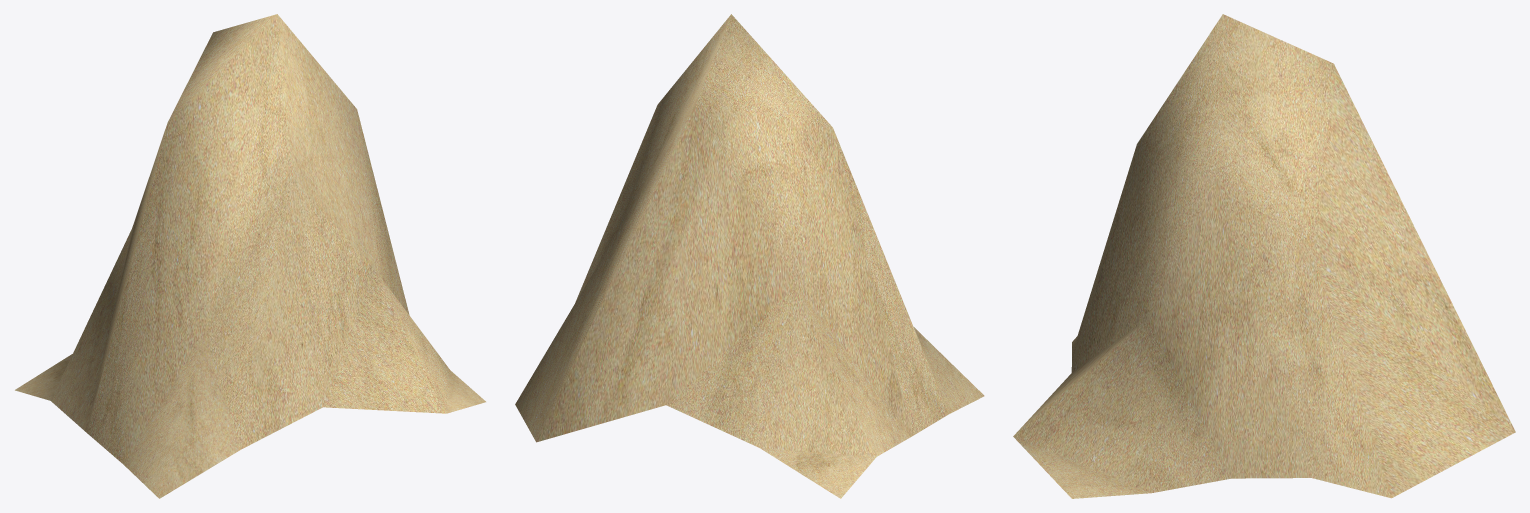
Rendered from pile_of_sand.fbx.
3 renders of one model, left to right at view 1: azimuth 30°, elevation 25°; view 2: azimuth 150°, elevation 25°; view 3: azimuth 270°, elevation 25°, orthographic. The views are drawn at different scales.
Visible parts, largest first — view 1: Plane003; view 2: Plane003; view 3: Plane003.
Part boxes in pixels (x1,y1,x2,y2): Plane003: [15, 14, 485, 498]; Plane003: [515, 14, 984, 498]; Plane003: [1013, 14, 1515, 498].
Size of the model in its own units: 261 by 296 by 315.
Materials: 1 (1 with a texture image).
